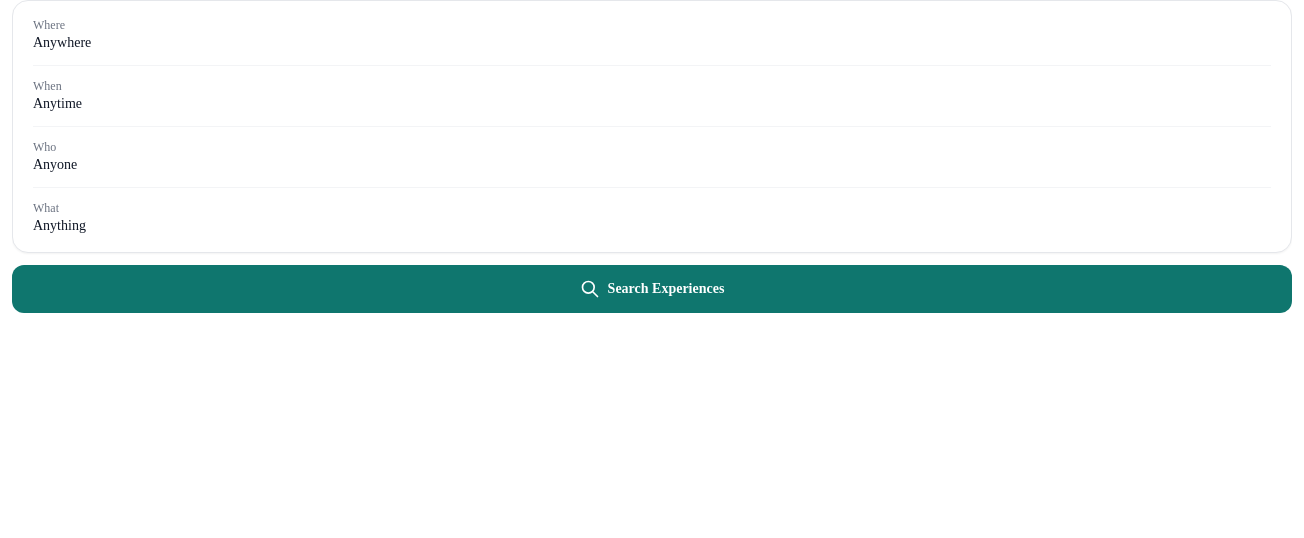
Test case: ProductDiscoverySearch › dropdown visibility › shows Where dropdown when Where button is clicked
The image size is (1304, 538).
Click the button "Where Anywhere" at (49, 25), box [17,5,1287,65]
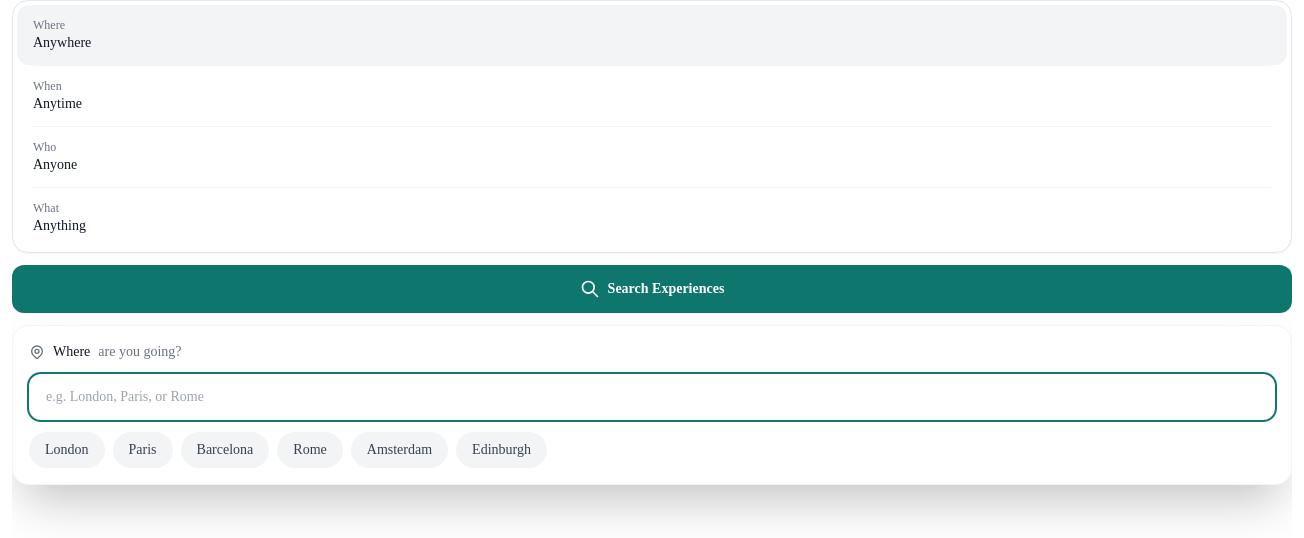
Expected: the text "are you going?" is shown, [98,342,182,362]
Expected: the field with placeholder "e.g. London, Paris, or Rome" is shown, [29,374,1275,420]
